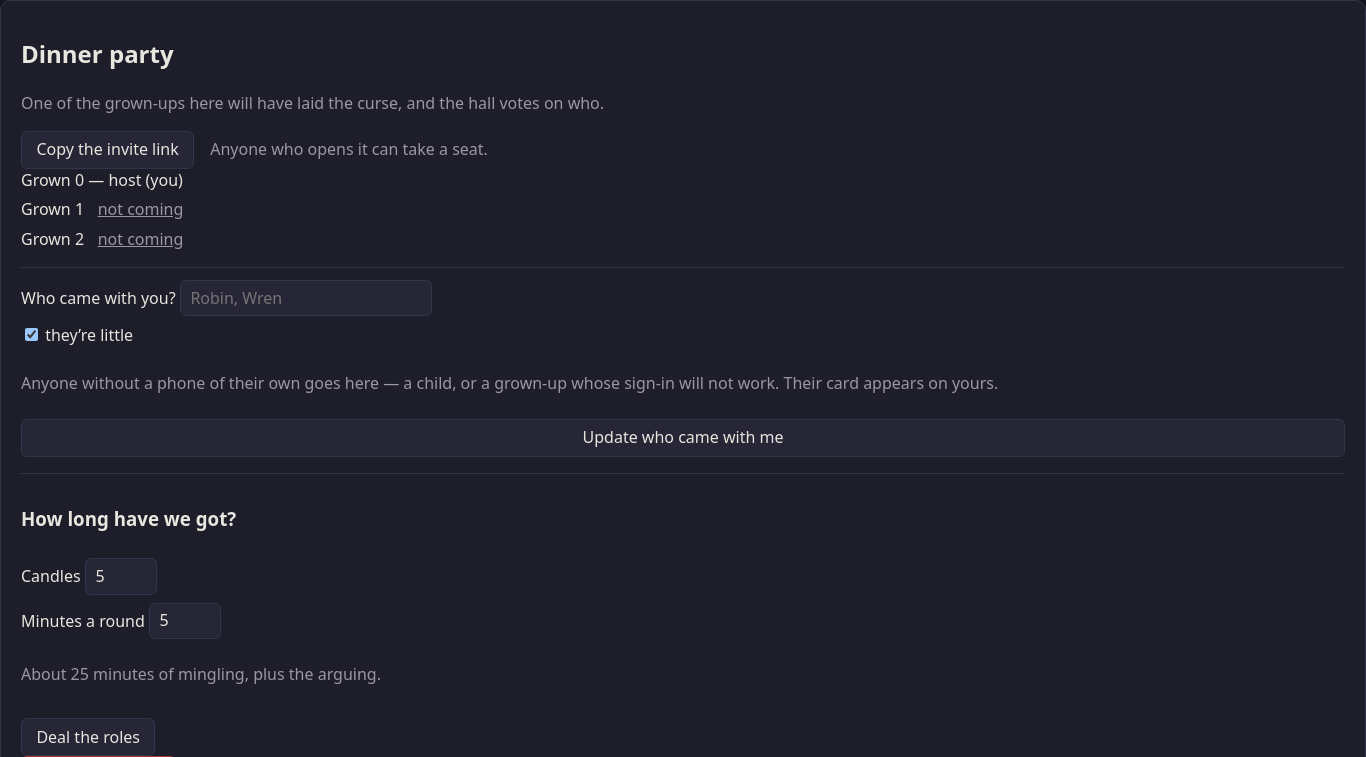
it: the host dials › clamps an out-of-range number instead of letting the server reject it
The image size is (1366, 757).
Step 1. Replace the text in the number field labelled "Minutes a round" with "90" → [185, 621], box [149, 603, 221, 639]
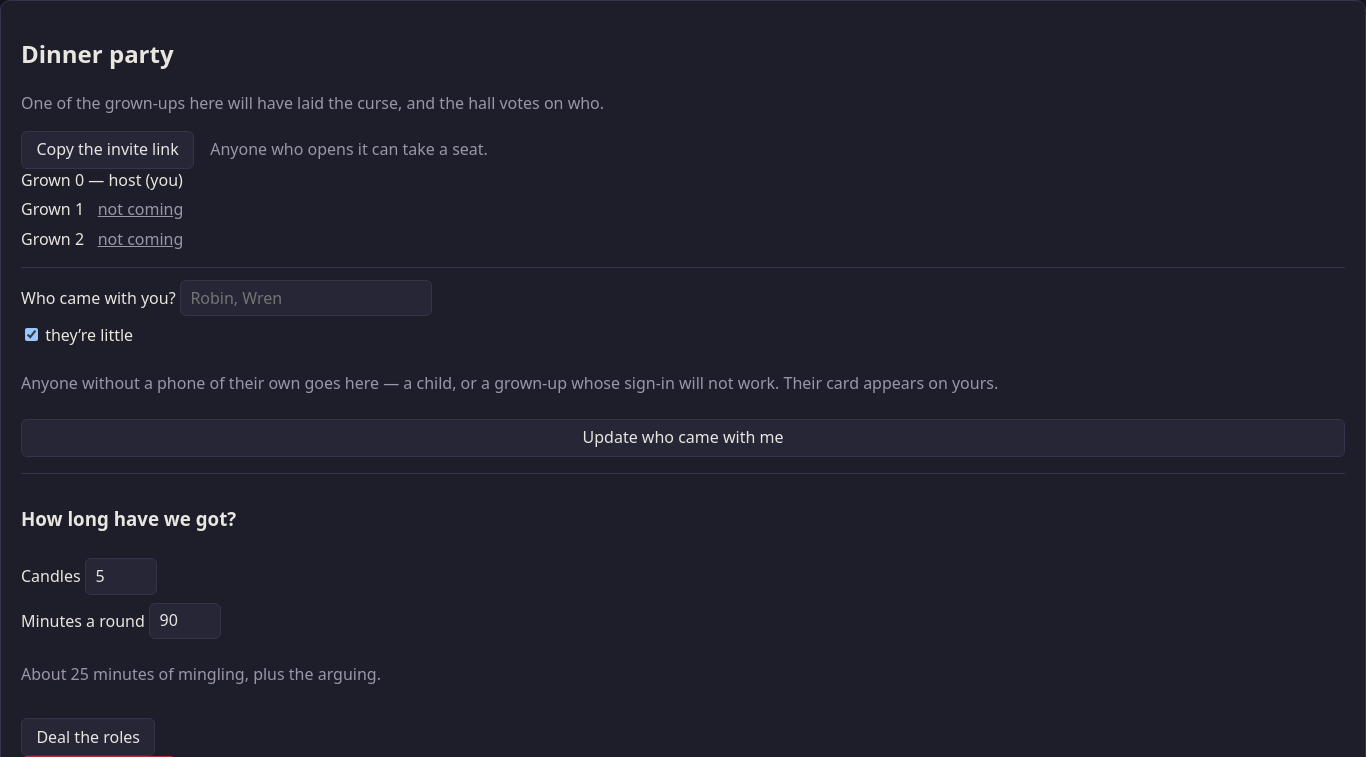
Step 2. Leave the number field labelled "Minutes a round", box [149, 603, 221, 639]
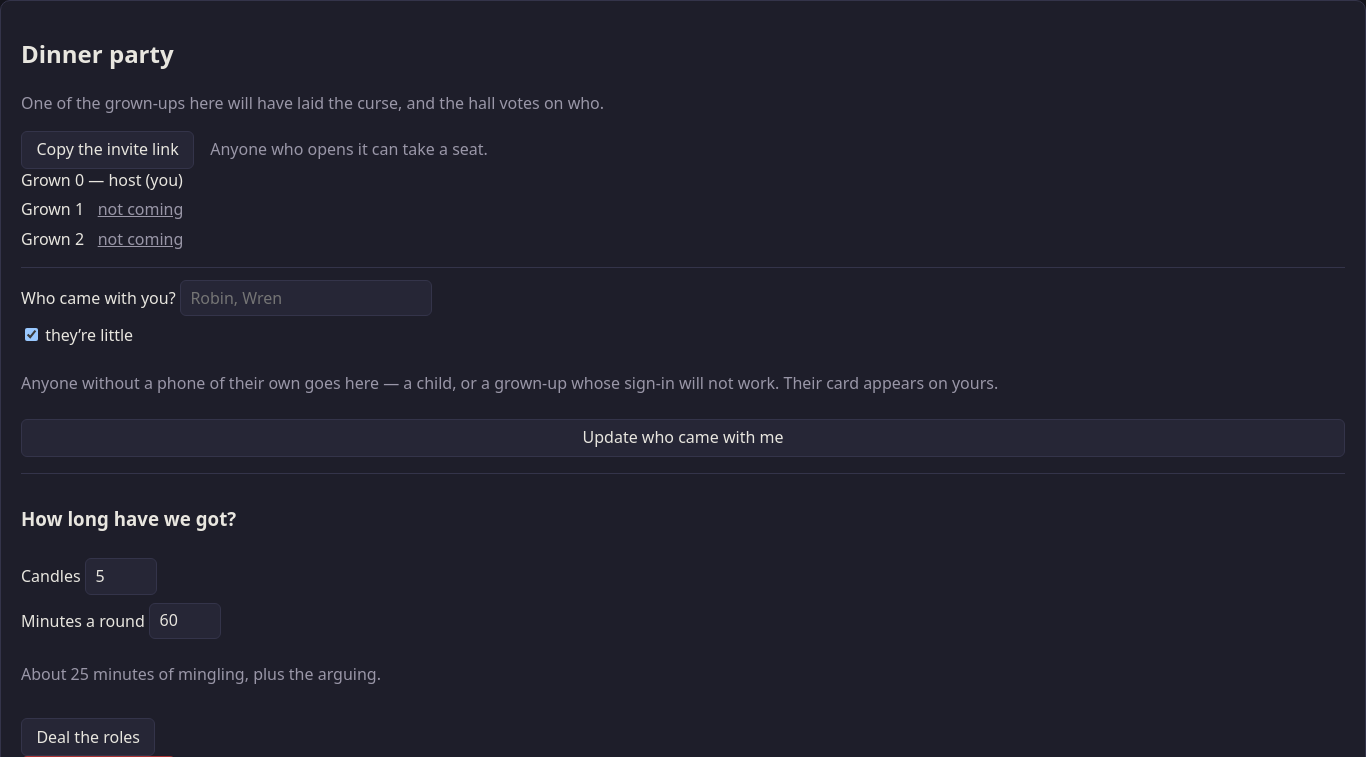
Result: the number field labelled "Minutes a round" holds "60" at [149, 603, 221, 639]
